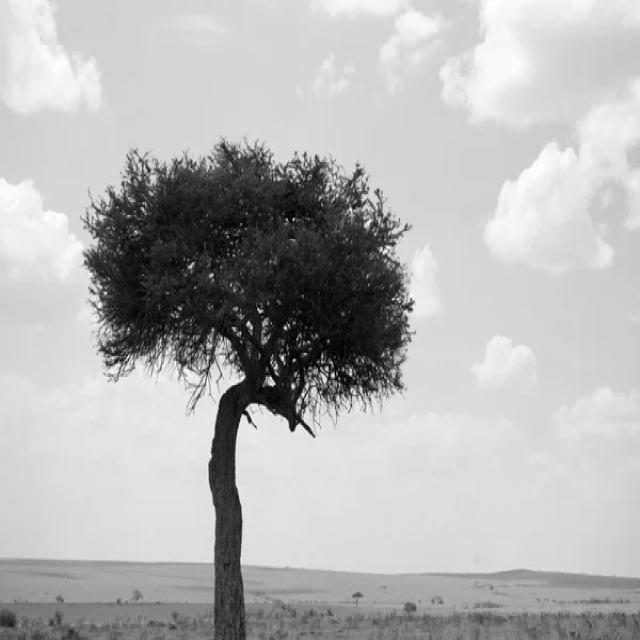Tree: (84, 141, 413, 640)
